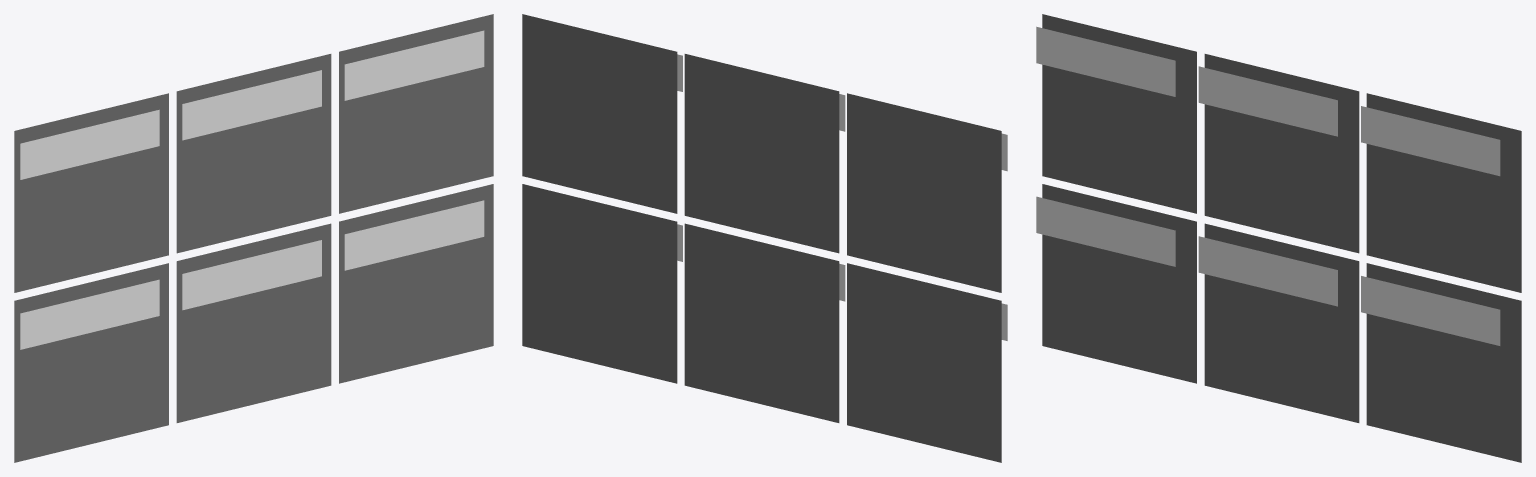
The model's file is WeekPanels.fbx.
3 renders of one model, left to right at view 1: azimuth 30°, elevation 25°; view 2: azimuth 150°, elevation 25°; view 3: azimuth 330°, elevation 25°, orthographic.
Parts seen in each view (by area): view 1: Week5, Week2, Week4, Week1, Week3, Week6, Week6_Text, Week3_Text, Week4_Text, Week5_Text, Week2_Text, Week1_Text; view 2: Week3, Week5, Week6, Week2, Week1, Week4; view 3: Week6, Week2, Week3, Week5, Week4, Week1, Week4_Text, Week3_Text, Week5_Text, Week2_Text, Week1_Text, Week6_Text.
Boxes of the visible parts, bbox=[...] form: Week5: bbox=[176, 223, 331, 422]; Week2: bbox=[176, 54, 331, 253]; Week4: bbox=[14, 263, 168, 462]; Week1: bbox=[14, 93, 168, 292]; Week3: bbox=[339, 14, 493, 213]; Week6: bbox=[339, 184, 493, 383]; Week6_Text: bbox=[344, 200, 484, 270]; Week3_Text: bbox=[344, 30, 484, 100]; Week4_Text: bbox=[20, 279, 159, 349]; Week5_Text: bbox=[182, 240, 321, 310]; Week2_Text: bbox=[182, 70, 321, 140]; Week1_Text: bbox=[20, 109, 159, 179]; Week3: bbox=[522, 14, 677, 213]; Week5: bbox=[684, 223, 839, 422]; Week6: bbox=[522, 184, 677, 383]; Week2: bbox=[684, 54, 839, 253]; Week1: bbox=[847, 93, 1001, 292]; Week4: bbox=[847, 263, 1001, 462]; Week6: bbox=[1366, 263, 1521, 462]; Week2: bbox=[1204, 54, 1359, 253]; Week3: bbox=[1366, 93, 1521, 292]; Week5: bbox=[1204, 223, 1359, 422]; Week4: bbox=[1042, 184, 1196, 383]; Week1: bbox=[1042, 14, 1196, 213]; Week4_Text: bbox=[1036, 196, 1175, 266]; Week3_Text: bbox=[1361, 106, 1500, 176]; Week5_Text: bbox=[1198, 236, 1337, 306]; Week2_Text: bbox=[1198, 66, 1337, 136]; Week1_Text: bbox=[1036, 26, 1175, 96]; Week6_Text: bbox=[1361, 276, 1500, 345].
Bounding box in the file's own units: 650 × 430 × 14.
